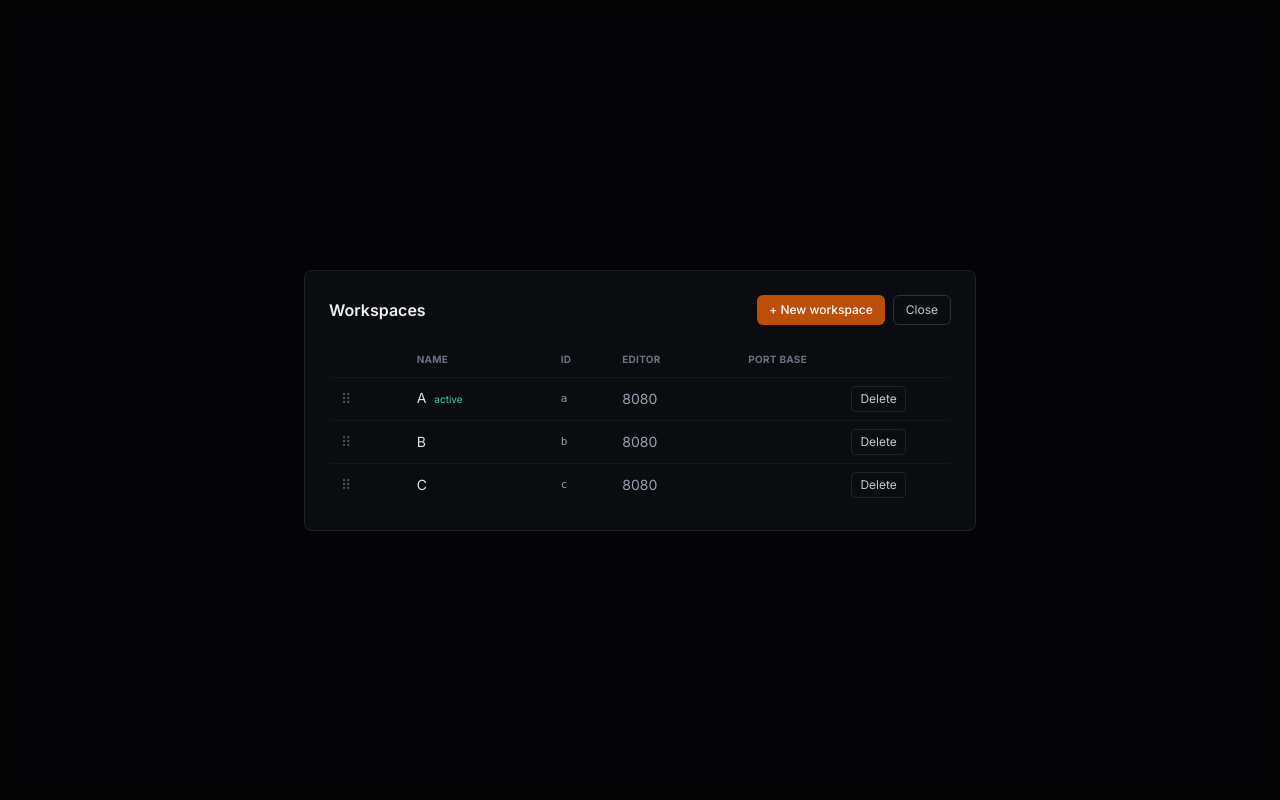
it: WorkspacesPage reordering › puts the old order back and explains itself when the save fails
Step 1. Press the mouse on the button named "Reorder A" → (346, 398), box [337,388,355,408]
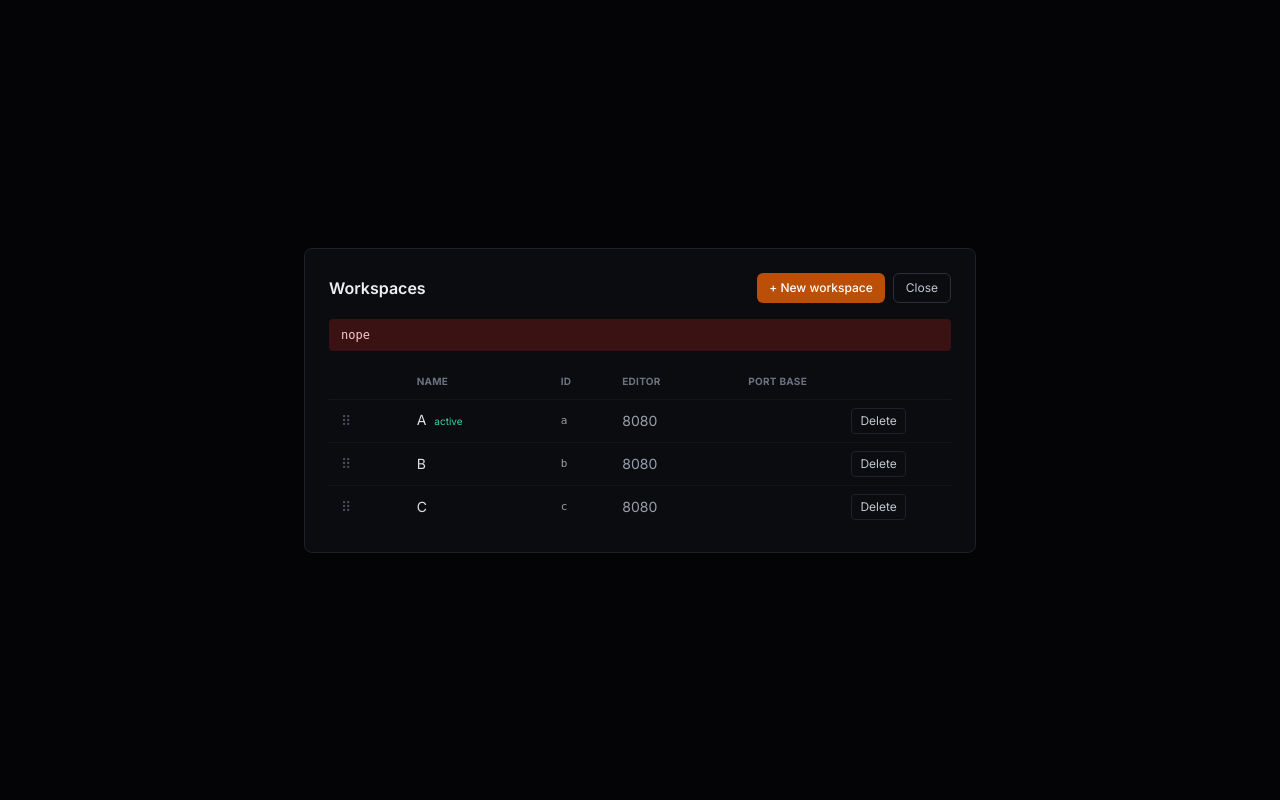
Result: the text "nope" is shown at [329,318,951,350]
